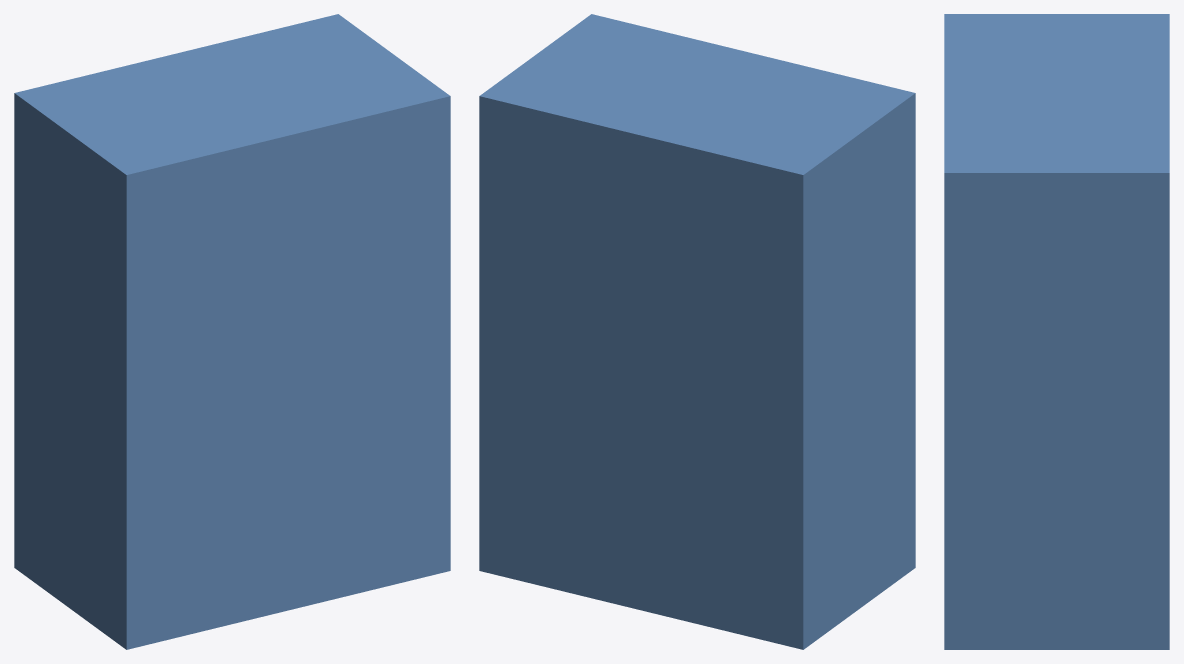
The model's file is backpack_bag.glb.
3 renders of one model, left to right at view 1: azimuth 30°, elevation 25°; view 2: azimuth 150°, elevation 25°; view 3: azimuth 270°, elevation 25°, orthographic.
Parts seen in each view (by area): view 1: pack, flap; view 2: pack; view 3: pack, flap.
Boxes of the visible parts, box(x1,y1,x2,y2) form: pack: box(14, 14, 450, 649); flap: box(81, 176, 118, 365); pack: box(479, 14, 915, 649); pack: box(944, 14, 1169, 649); flap: box(959, 207, 1034, 370).
Bounding box in the file's own units: 0.5 × 0.7002 × 0.2998.
